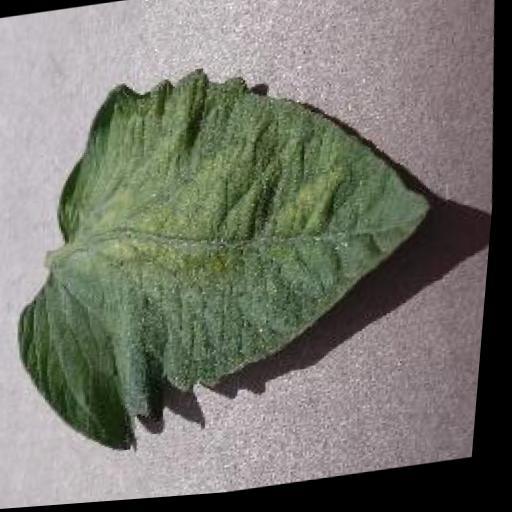Spider Mites: (0, 41, 459, 468)
